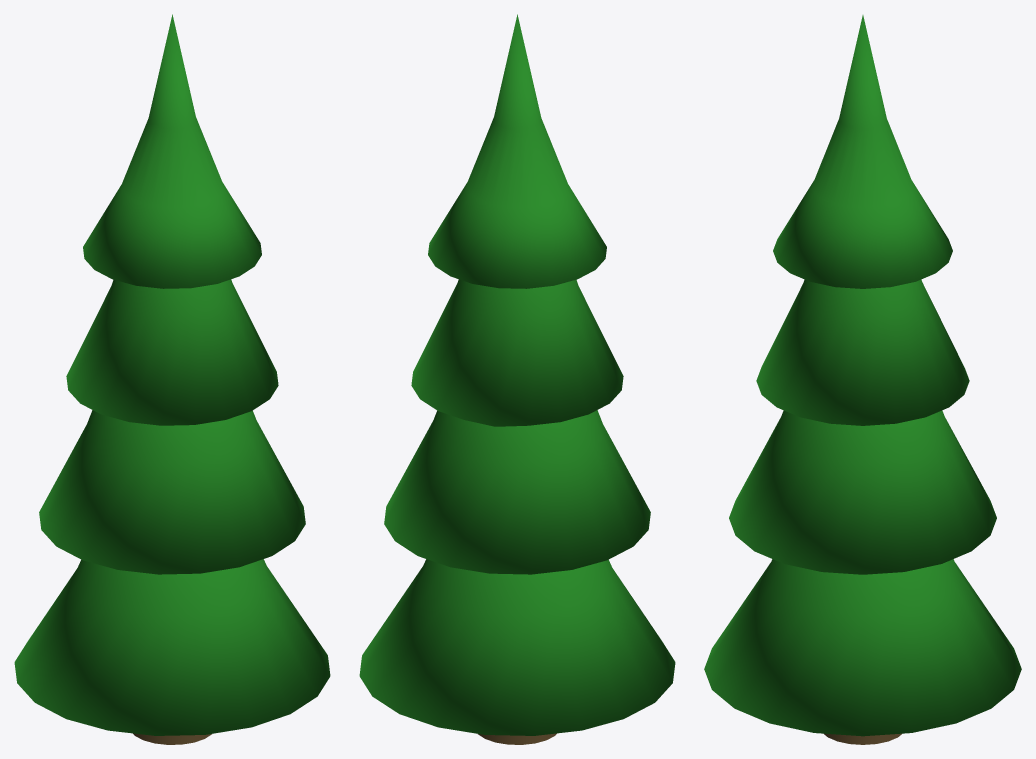
The model's file is Large_Tree.fbx.
3 views of the same model, side by side, from view 1: azimuth 30°, elevation 25°; view 2: azimuth 150°, elevation 25°; view 3: azimuth 270°, elevation 25° (orthographic).
Parts seen in each view (by area): view 1: Large_Tree; view 2: Large_Tree; view 3: Large_Tree.
Part boxes in pixels (left/top/right/bottom): Large_Tree: left=14, top=14, right=330, bottom=744; Large_Tree: left=359, top=14, right=675, bottom=744; Large_Tree: left=704, top=15, right=1021, bottom=744.
Size of the model in its own units: 2.11 by 5.21 by 2.11.
